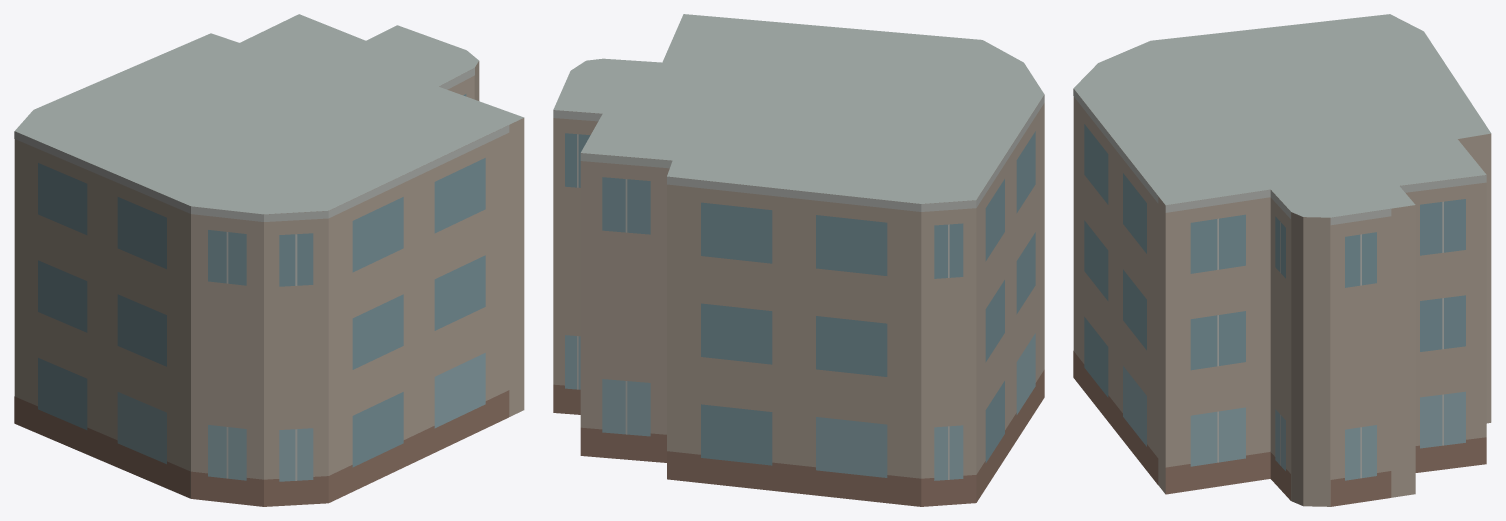
File: survey-upis-32506008.glb
3 renders of one model, left to right at view 1: azimuth 30°, elevation 25°; view 2: azimuth 150°, elevation 25°; view 3: azimuth 270°, elevation 25°, orthographic. The views are drawn at different scales.
Visible parts, largest first — view 1: survey-upis-32506008.tmp; view 2: survey-upis-32506008.tmp; view 3: survey-upis-32506008.tmp.
Part boxes in pixels (x1,y1,x2,y2): survey-upis-32506008.tmp: (14, 14, 524, 506); survey-upis-32506008.tmp: (553, 14, 1044, 506); survey-upis-32506008.tmp: (1073, 14, 1491, 506).
Bounding box in the file's own units: 13.9 × 9.2 × 12.06.
